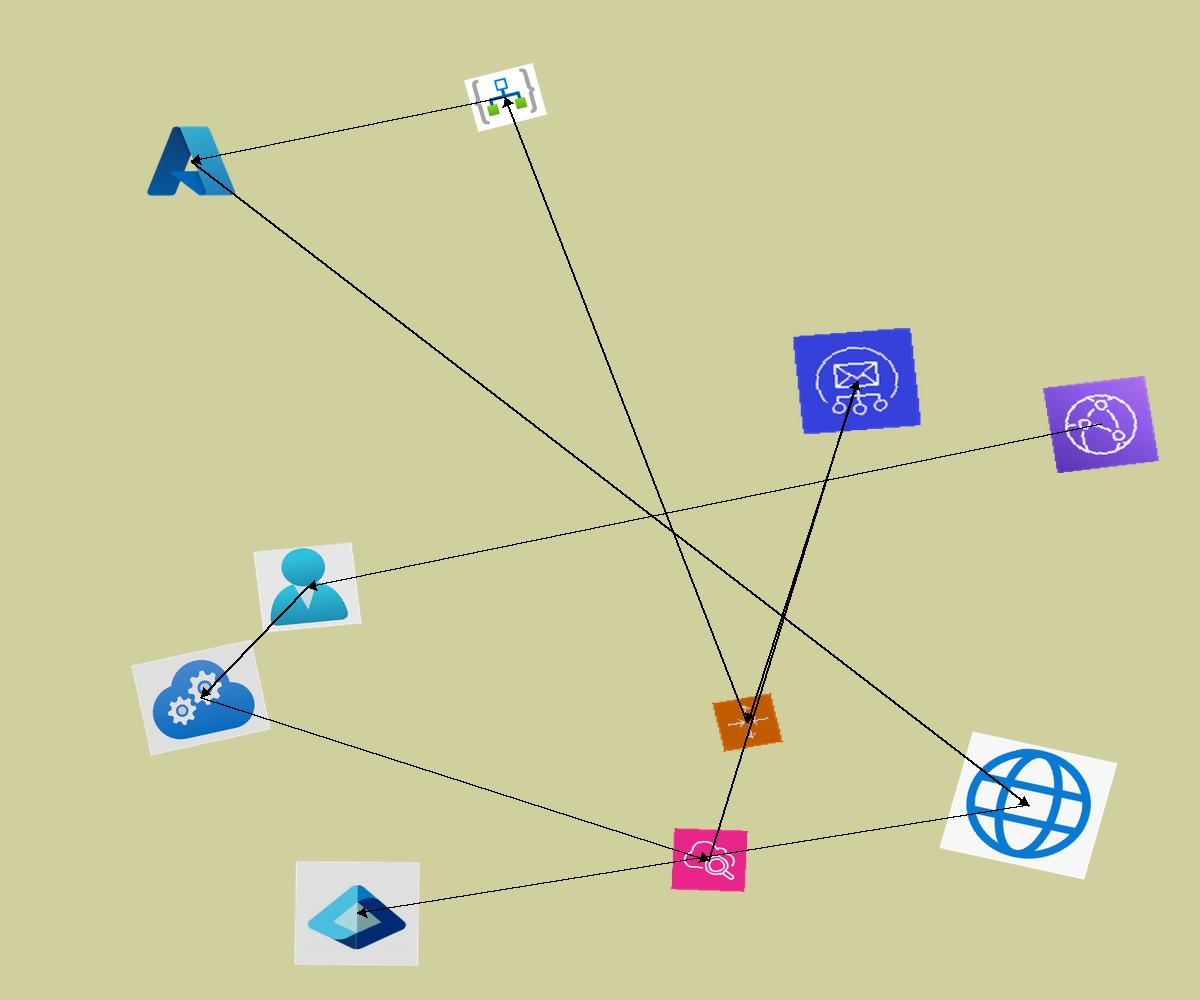AWS-CloudFront: (1042, 375, 1160, 474)
AWS-CloudWatch: (671, 828, 748, 892)
AWS-Scaling-group: (712, 693, 783, 752)
AWS-Simple-Email-Service: (792, 327, 922, 435)
Azure_cloud_services: (131, 639, 271, 756)
Azure_http: (939, 731, 1118, 880)
Azure_integration-204-Logic-Apps: (464, 63, 547, 132)
Azure_microsoft_entra: (294, 861, 420, 966)
Azure_services: (143, 121, 239, 201)
Azure_users: (253, 542, 362, 633)
